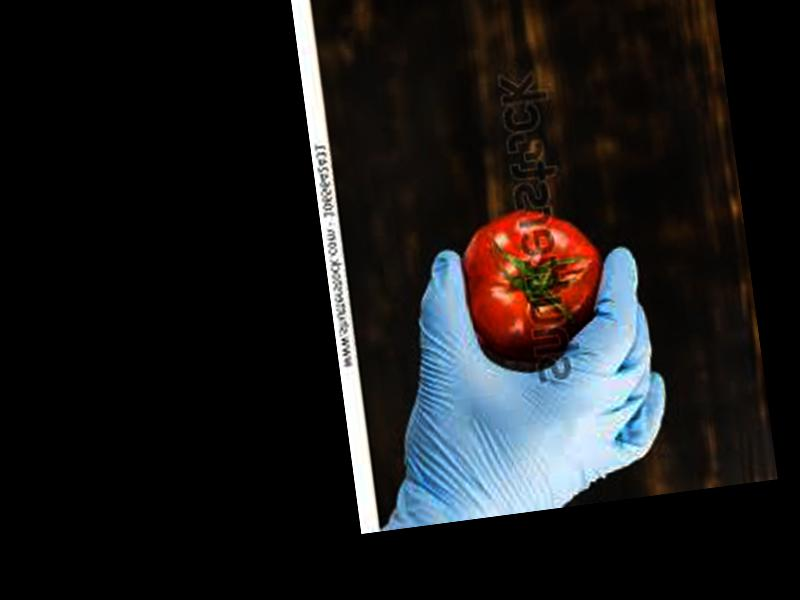Tomato: (454, 198, 614, 370)
